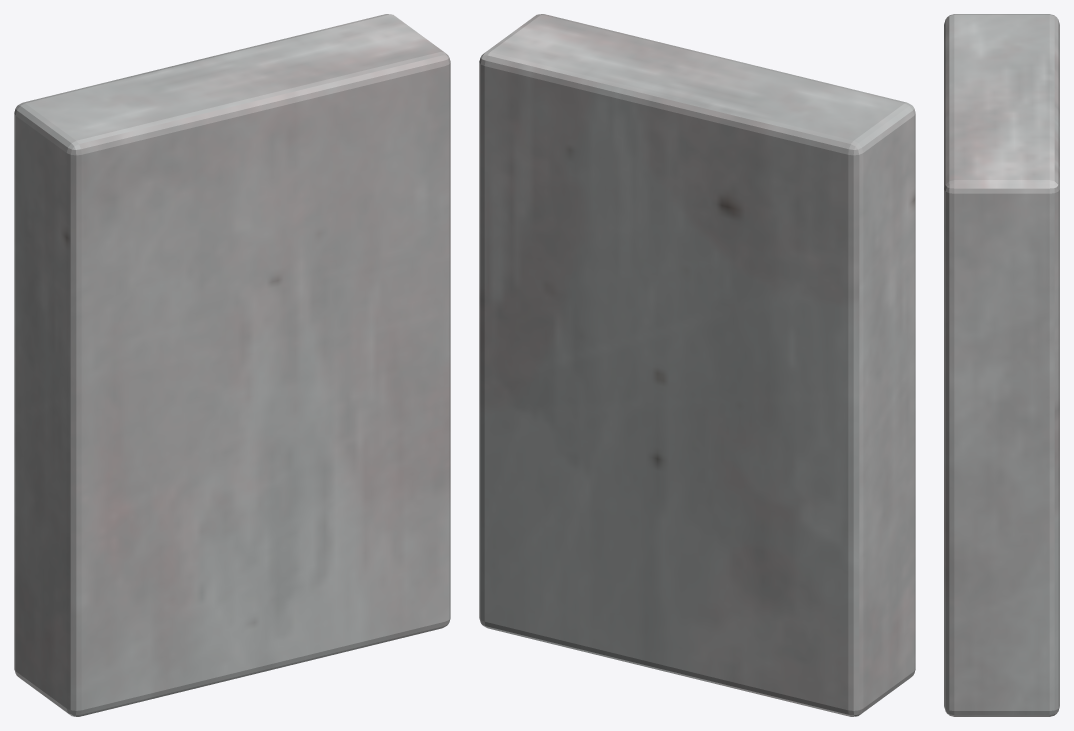
Rendered from puerta.fbx.
The picture shows the model from 3 angles, left to right: view 1: azimuth 30°, elevation 25°; view 2: azimuth 150°, elevation 25°; view 3: azimuth 270°, elevation 25°; orthographic projection. The views are drawn at different scales.
Parts seen in each view (by area): view 1: Hub_MarcoEscotilla_E; view 2: Hub_MarcoEscotilla_E; view 3: Hub_MarcoEscotilla_E.
Part boxes in pixels (<box>): Hub_MarcoEscotilla_E: <box>14,14,450,716</box>; Hub_MarcoEscotilla_E: <box>479,14,915,716</box>; Hub_MarcoEscotilla_E: <box>944,14,1059,716</box>.
Size of the model in its own units: 160 by 230 by 45.
Materials: 1 (1 with a texture image).
